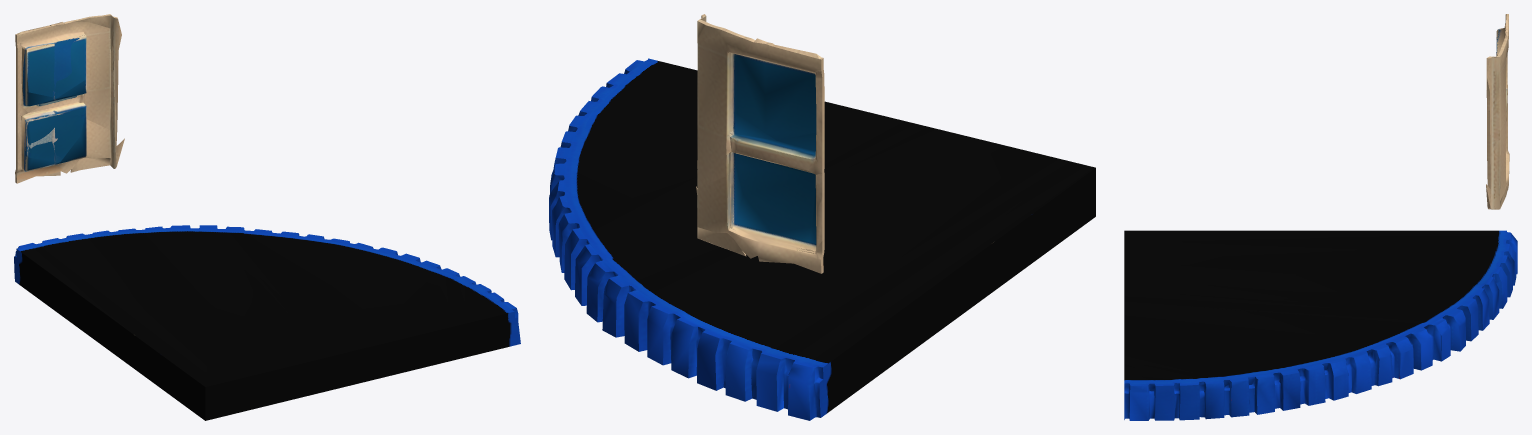
The model's file is 12-roof-back-right.fbx.
3 views of the same model, side by side, from view 1: azimuth 30°, elevation 25°; view 2: azimuth 150°, elevation 25°; view 3: azimuth 270°, elevation 25° (orthographic). The views are drawn at different scales.
Parts seen in each view (by area): view 1: roof-back-right; view 2: roof-back-right; view 3: roof-back-right.
Boxes of the visible parts, x1,y1,x2,y2 form: roof-back-right: (14, 14, 520, 420); roof-back-right: (549, 14, 1095, 420); roof-back-right: (1124, 14, 1517, 420).
Bounding box in the file's own units: 4636 × 3509 × 4941.
1 material, 1 textured.
